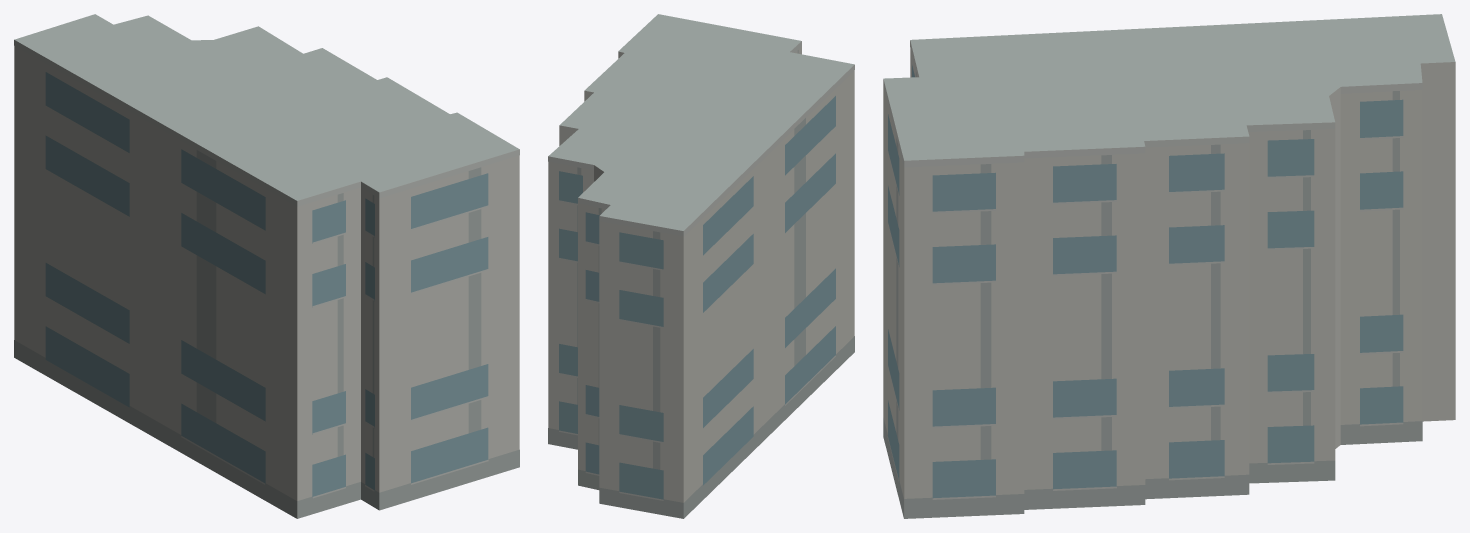
The model's file is survey-upis-32638842.glb.
The picture shows the model from 3 angles, left to right: view 1: azimuth 30°, elevation 25°; view 2: azimuth 150°, elevation 25°; view 3: azimuth 270°, elevation 25°; orthographic projection. The views are drawn at different scales.
Parts seen in each view (by area): view 1: survey-upis-32638842.tmp; view 2: survey-upis-32638842.tmp; view 3: survey-upis-32638842.tmp.
Part boxes in pixels (x1,y1,x2,y2): survey-upis-32638842.tmp: [14, 14, 519, 518]; survey-upis-32638842.tmp: [548, 14, 854, 518]; survey-upis-32638842.tmp: [883, 14, 1455, 518].
Bounding box in the file's own units: 11.26 × 12.8 × 18.54.
